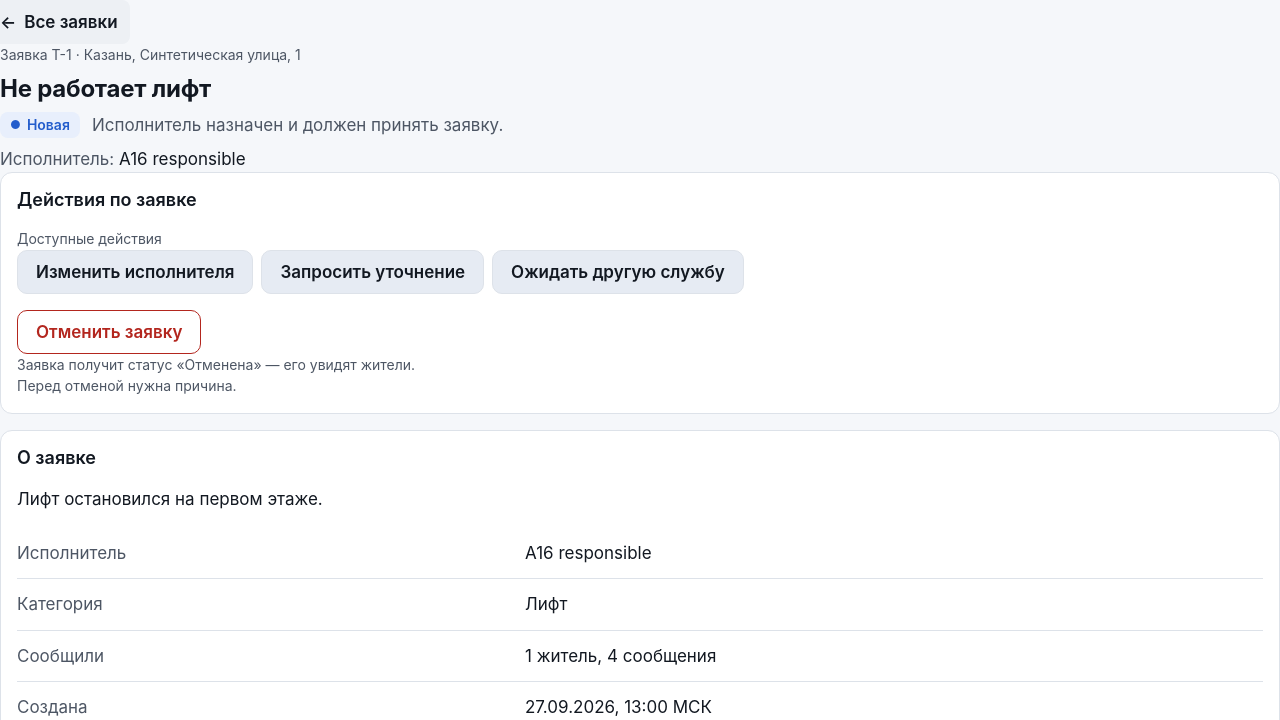
it: RA-04 действие с исполнителем › при указанном исполнителе — «Изменить исполнителя» среди других действий, и шаг за исполнителем
The width and height of the screenshot is (1280, 720).
Expected: the text "Доступные действия" is shown, [17,230,162,247]
Expected: the text "Исполнитель назначен и должен принять заявку." is shown, [92,112,503,138]
Click the button "Изменить исполнителя": (135, 272) [17,250,253,294]
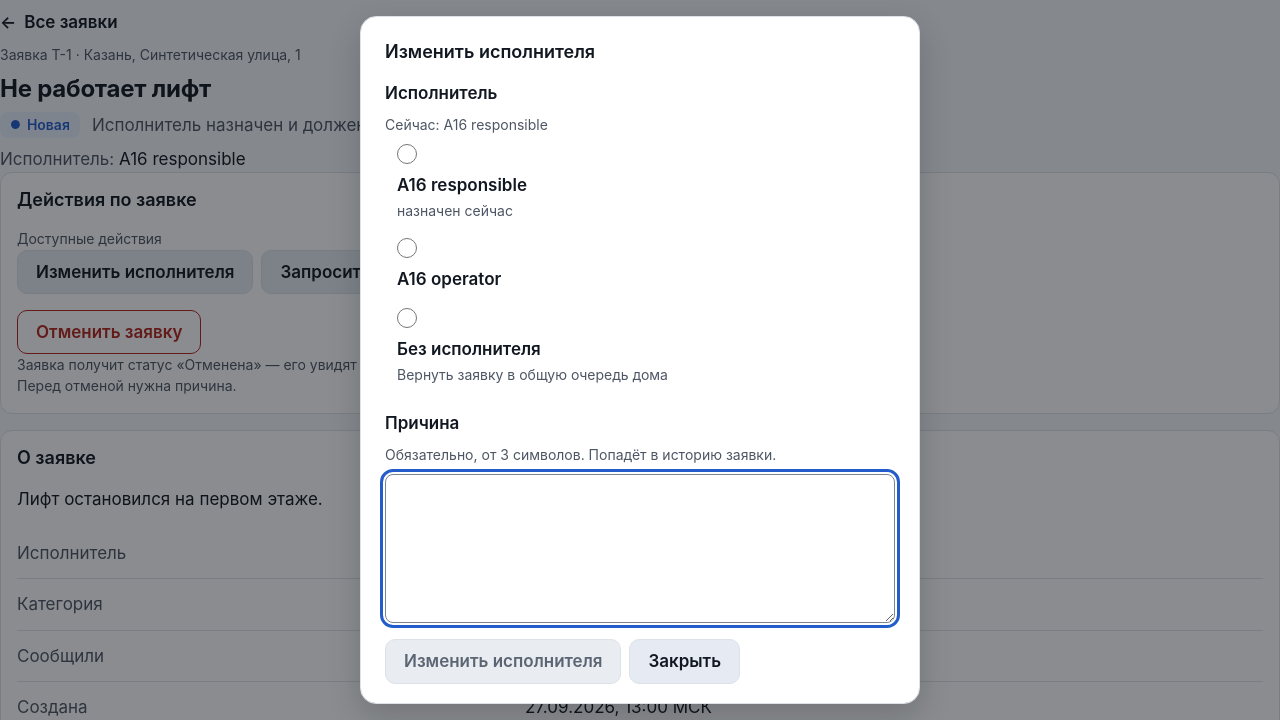
Result: the heading "Изменить исполнителя" is shown at [385,41,595,62]
Result: the text "Сейчас: A16 responsible" is shown at [385,116,548,133]
Result: the radio button labelled "Без исполнителя Вернуть заявку в общую очередь дома" is shown at [397,308,417,328]
